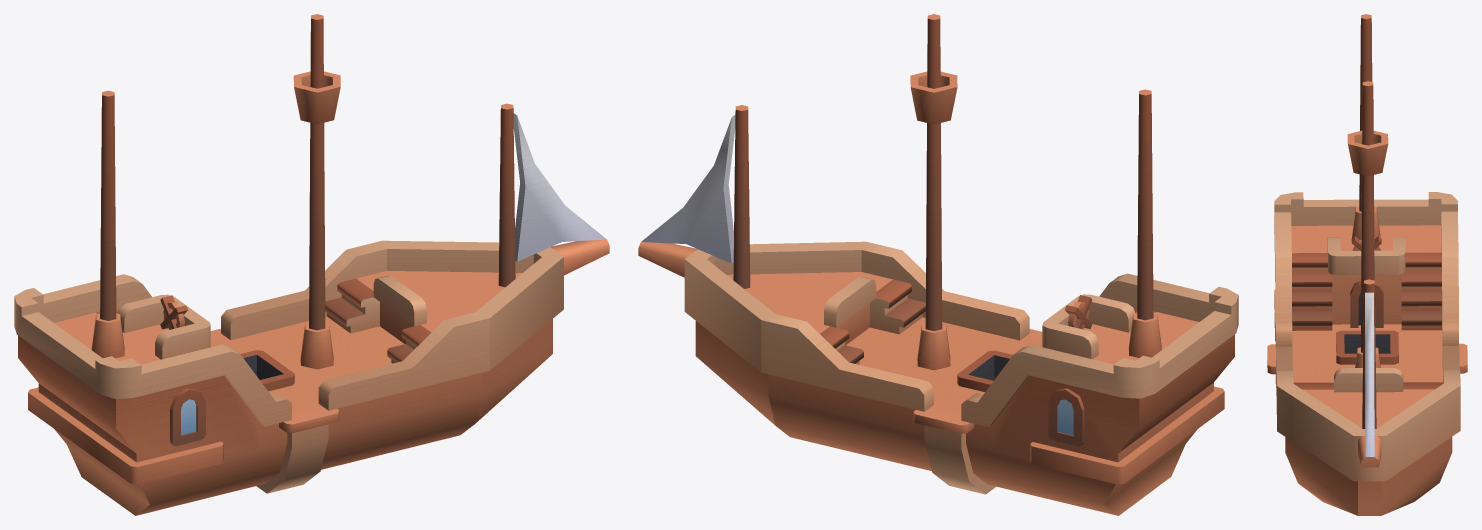
The model's file is ship-large_lev2.glb.
3 renders of one model, left to right at view 1: azimuth 30°, elevation 25°; view 2: azimuth 150°, elevation 25°; view 3: azimuth 270°, elevation 25°, orthographic. The views are drawn at different scales.
Parts seen in each view (by area): view 1: ship-large_lev2; view 2: ship-large_lev2; view 3: ship-large_lev2.
Part boxes in pixels (x1=…): ship-large_lev2: x1=14, y1=14, x2=609, y2=515; ship-large_lev2: x1=638, y1=14, x2=1238, y2=515; ship-large_lev2: x1=1267, y1=14, x2=1467, y2=515.
Bounding box in the file's own units: 18.95 × 14.4 × 6.95.
Materials: 1 (1 with a texture image).
